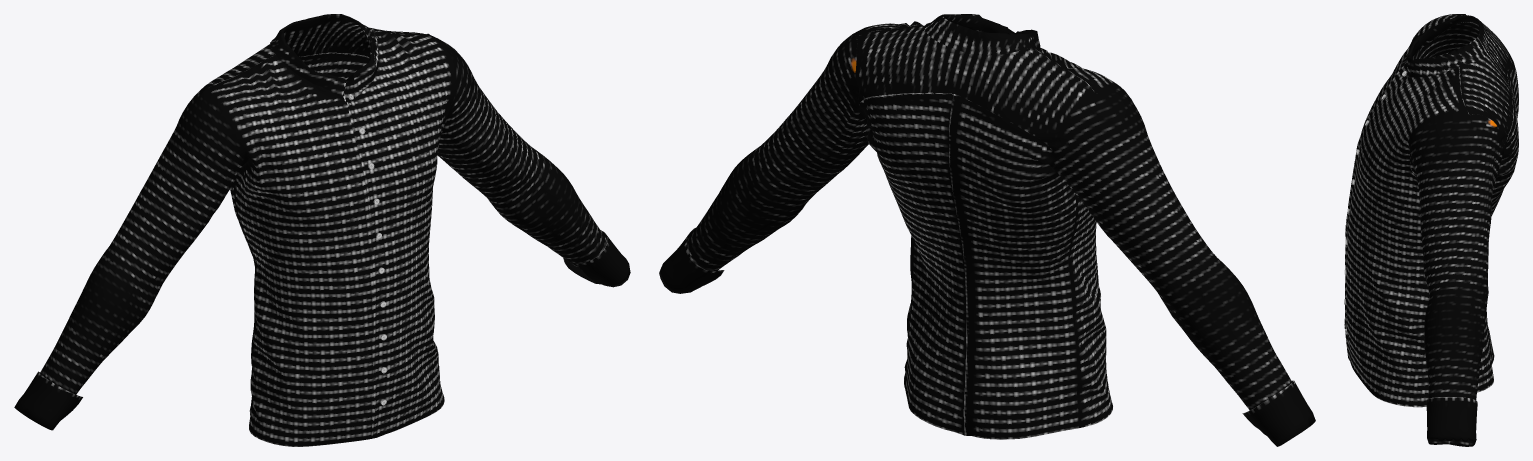
File: uv-kemeja-upgrade.obj
3 views of the same model, side by side, from view 1: azimuth 30°, elevation 25°; view 2: azimuth 150°, elevation 25°; view 3: azimuth 270°, elevation 25° (orthographic). The views are drawn at different scales.
Visible parts, largest first — view 1: Camisa; view 2: Camisa; view 3: Camisa.
Part boxes in pixels (x1,y1,x2,y2): Camisa: (14,14,630,446); Camisa: (659,14,1315,446); Camisa: (1344,14,1518,446).
Bounding box in the file's own units: 0.4614 × 0.2766 × 0.127.
